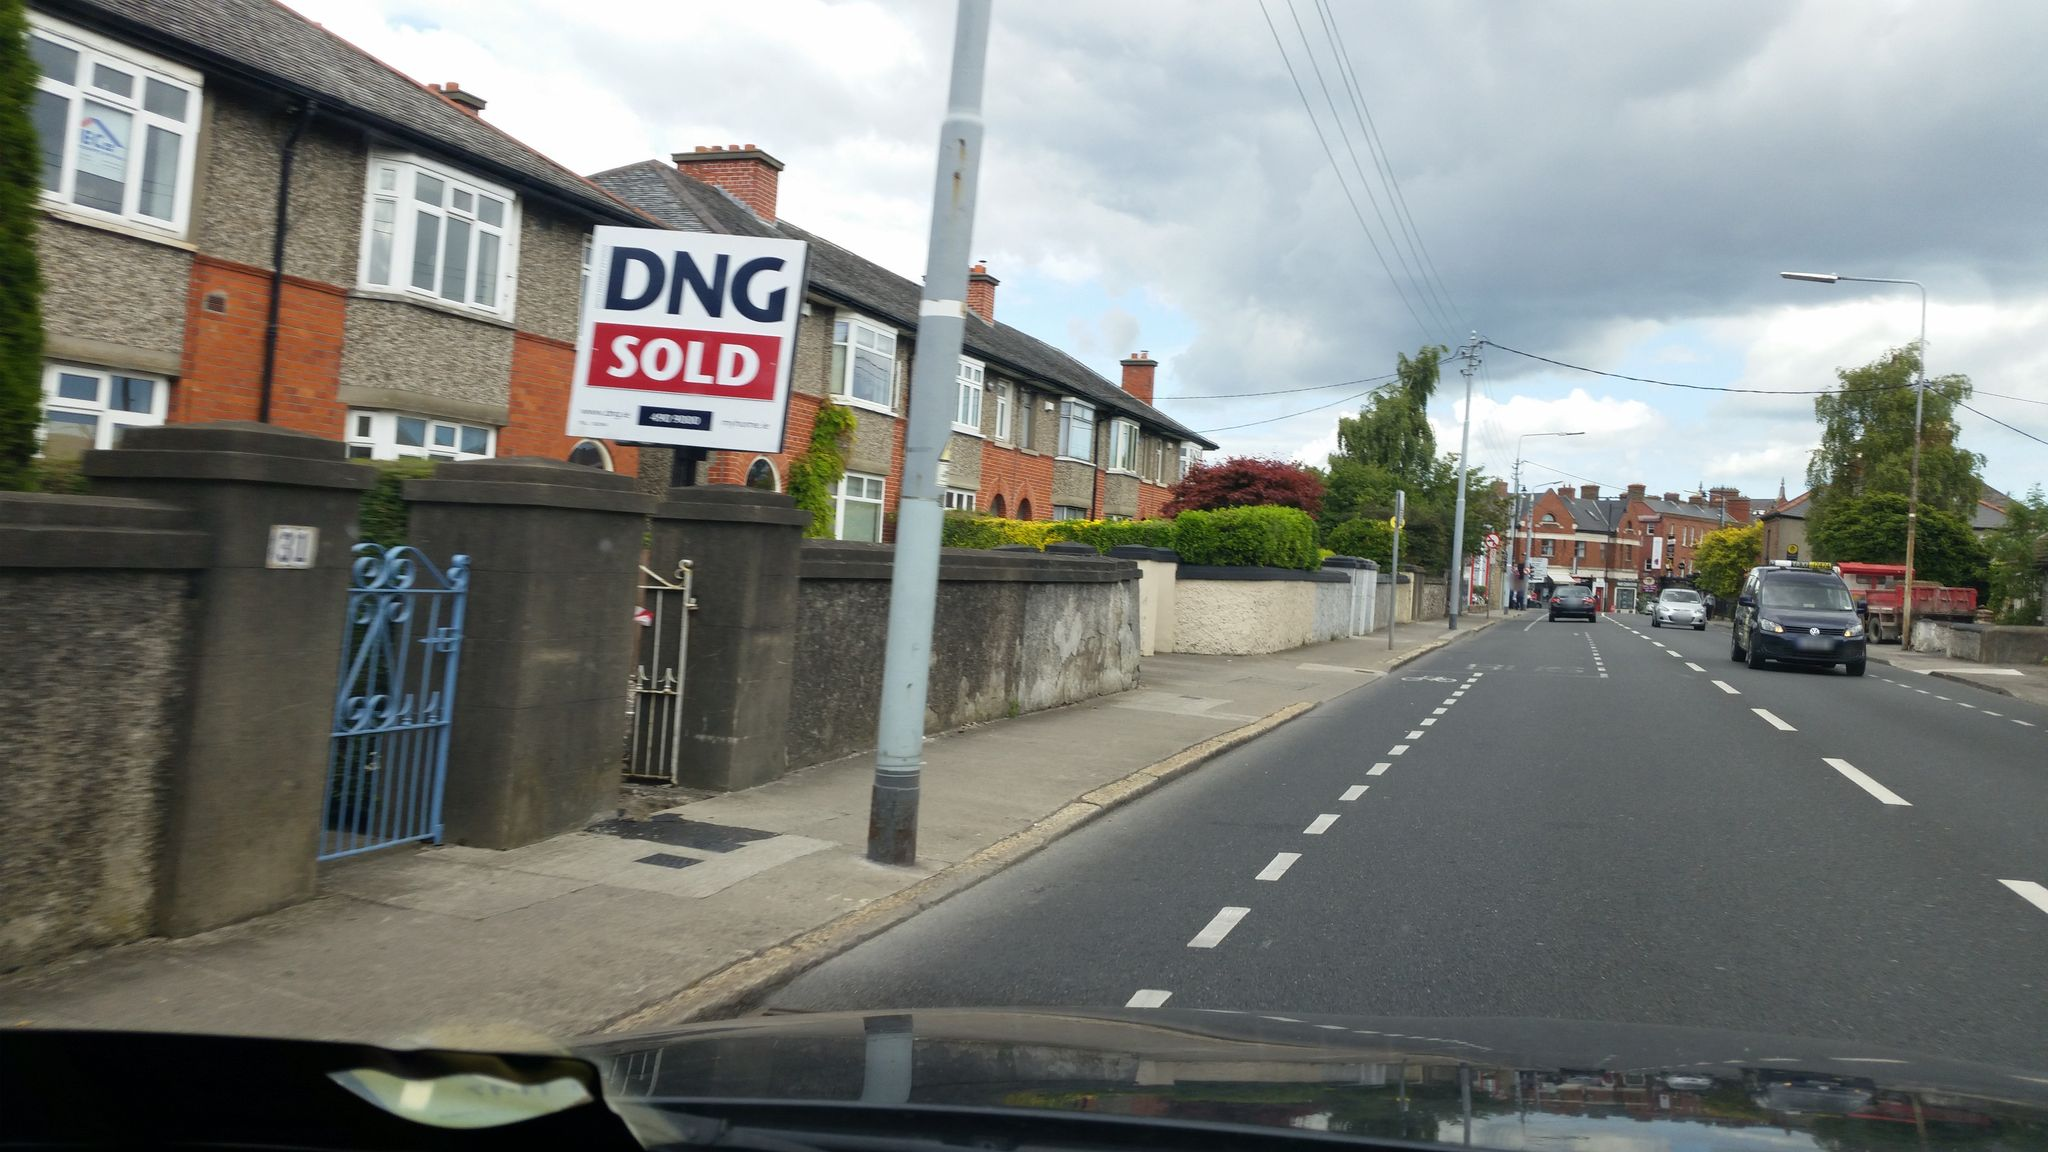property sign: (558, 208, 812, 480)
